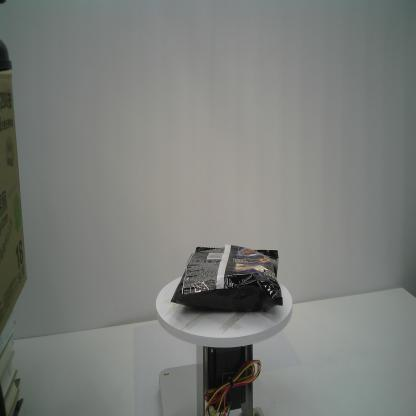Instant Noodles: (168, 241, 284, 315)
